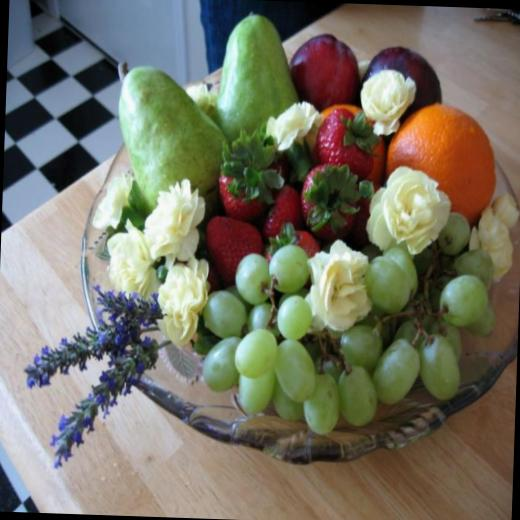Grape: (381, 101, 491, 202)
